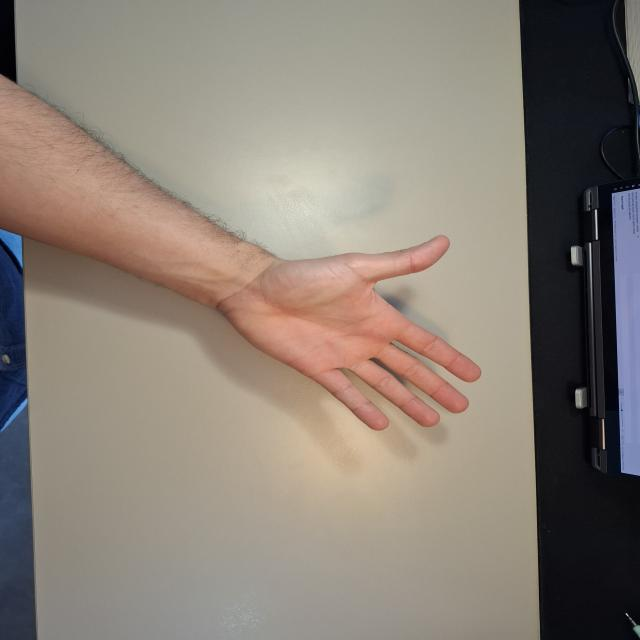glove_off: (210, 233, 484, 433)
